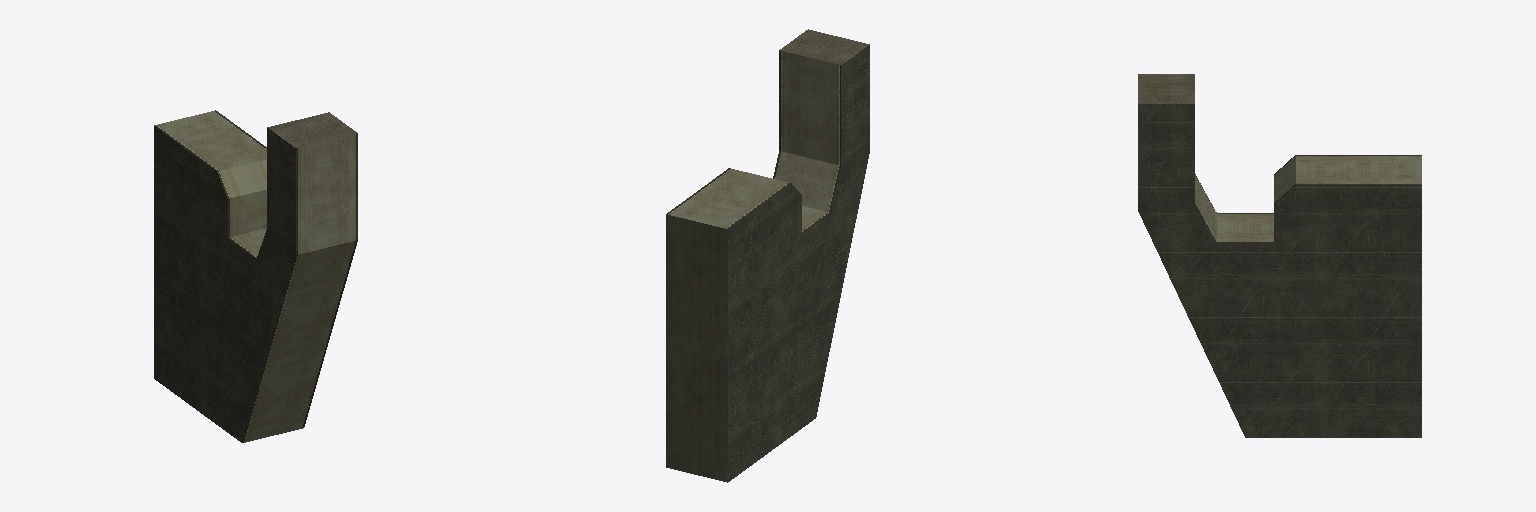
3 renders of one model, left to right at view 1: azimuth 30°, elevation 25°; view 2: azimuth 150°, elevation 25°; view 3: azimuth 270°, elevation 25°, orthographic.
Parts seen in each view (by area): view 1: 0_2, 0_1, 0_0; view 2: 0_2, 0_0, 0_1; view 3: 0_2, 0_1, 0_0.
Part boxes in pixels (x1,y1,x2,y2): 0_2: (154,126,295,442); 0_1: (154,110,357,442); 0_0: (267,112,356,147); 0_2: (728,45,869,481); 0_0: (666,29,869,482); 0_1: (667,50,840,232); 0_2: (1138,104,1421,437); 0_1: (1195,155,1421,242); 0_0: (1138,74,1194,103).
Size of the model in its own units: 1 by 5.15 by 3.96.
Materials: 3 (3 with a texture image).